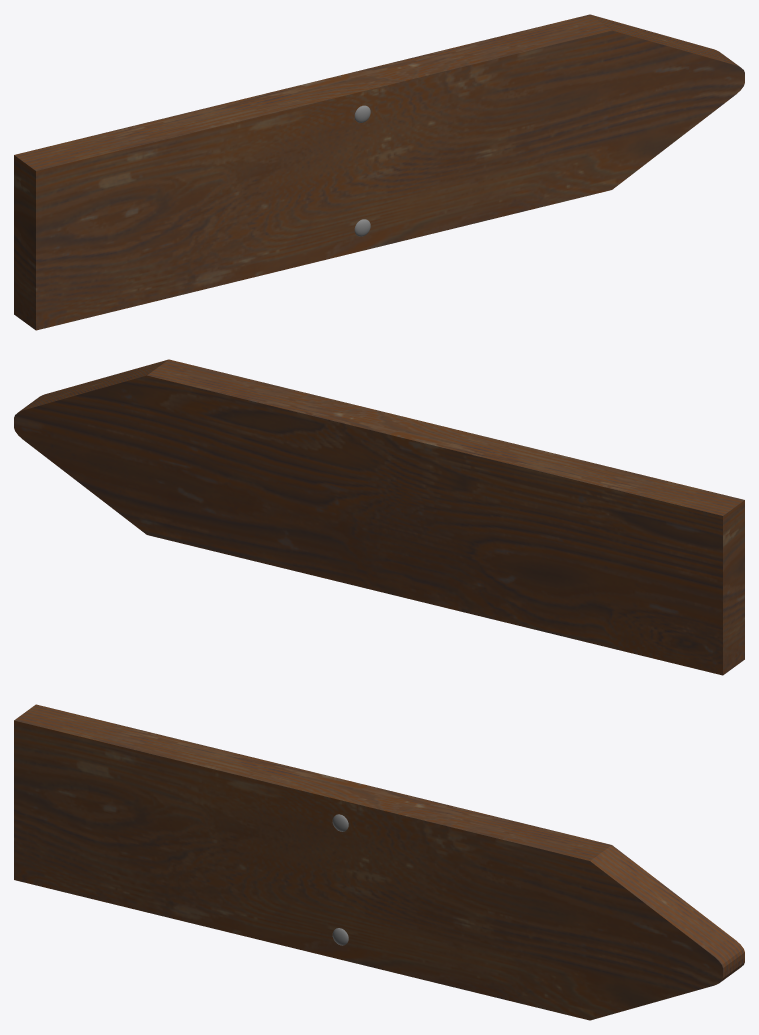
The model's file is woodenSign.fbx.
3 views of the same model, one above another, from view 1: azimuth 30°, elevation 25°; view 2: azimuth 150°, elevation 25°; view 3: azimuth 330°, elevation 25° (orthographic).
Visible parts, largest first — view 1: panel; view 2: panel; view 3: panel.
Boxes of the visible parts, bbox=[...] form: panel: bbox=[14, 14, 744, 330]; panel: bbox=[14, 359, 744, 675]; panel: bbox=[14, 704, 744, 1020].
Size of the model in its own units: 93.04 by 20 by 5.34.
